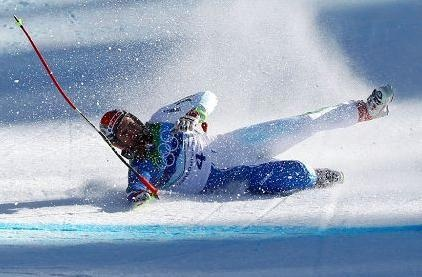falling: (91, 68, 411, 208)
